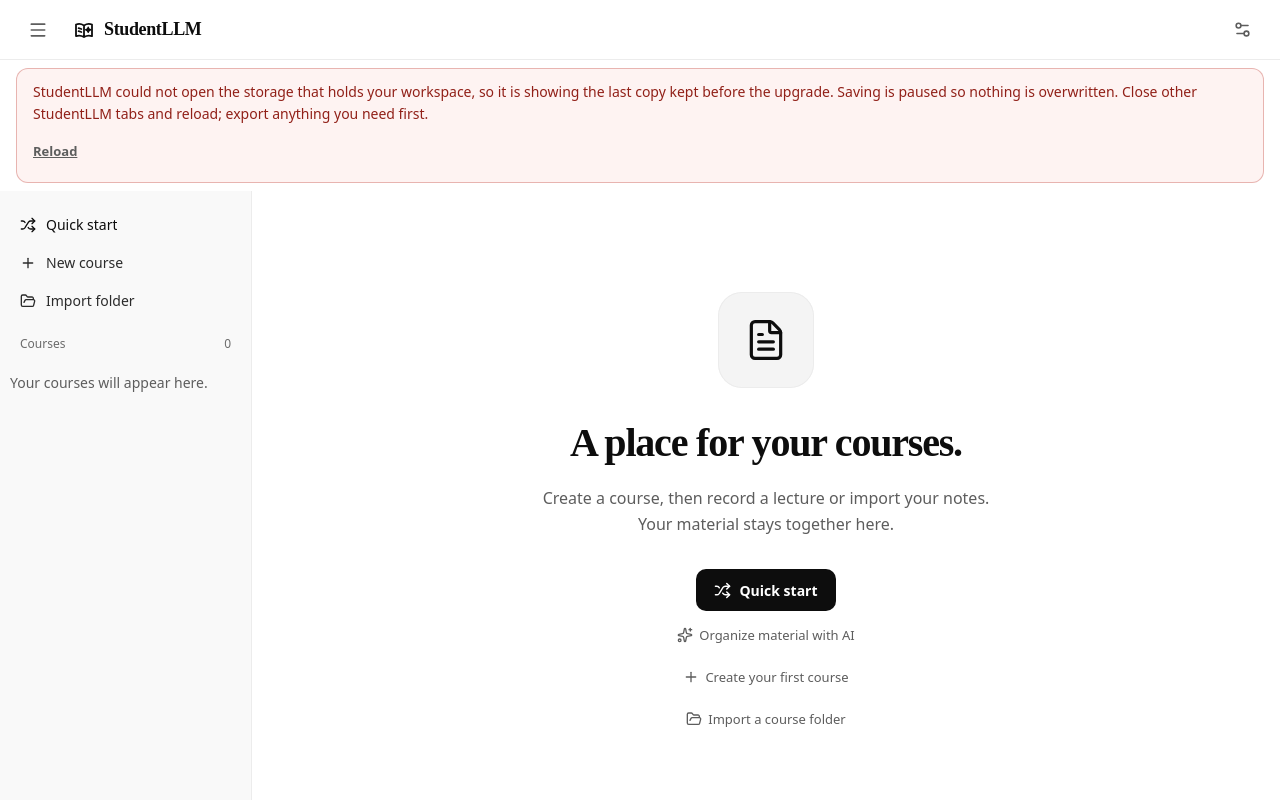
Test: StudentLLM workspace › shows external addresses as text in the packaged app, which opens no windows
Click the button named "Settings".
click(1242, 30)  # box 1222,10 -> 1262,50
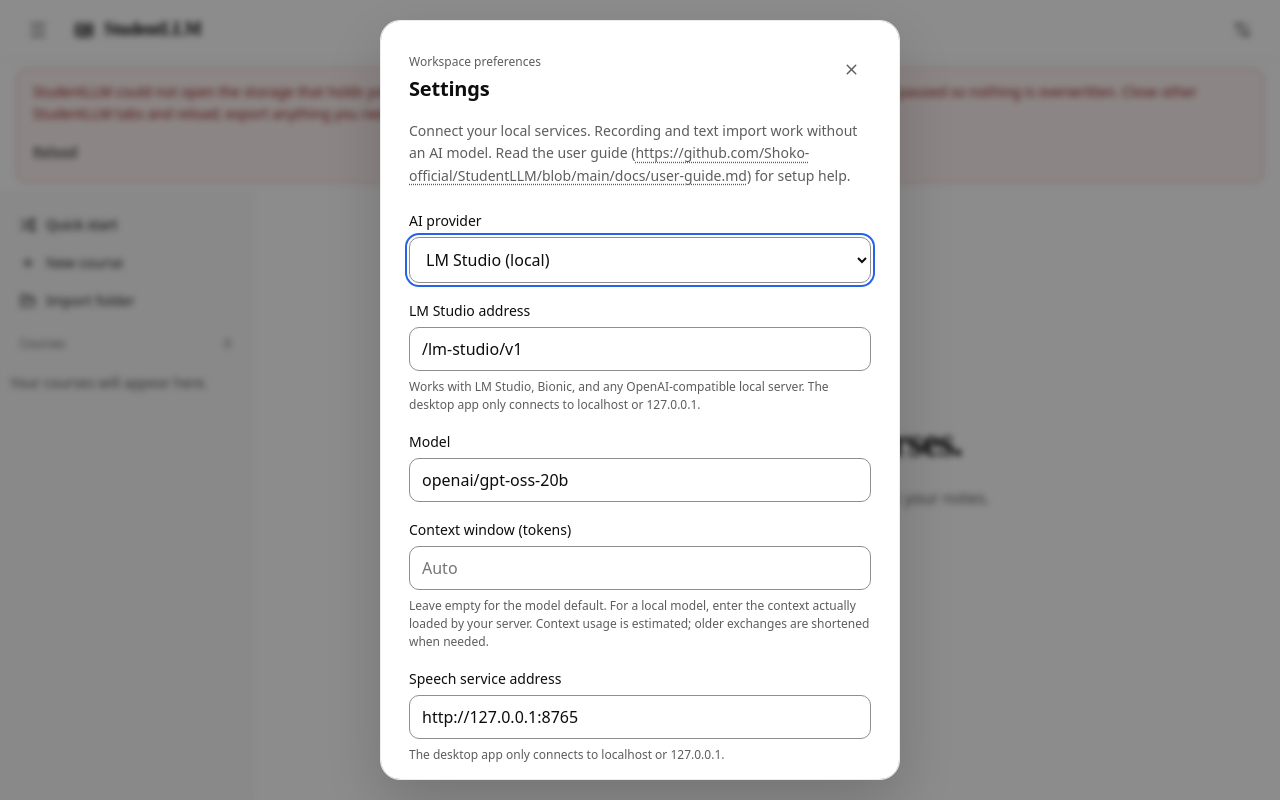
Expected: the text "https://github.com/Shoko-official/StudentLLM/blob/main/docs/user-guide.md" is shown, 409,143 -> 809,185
